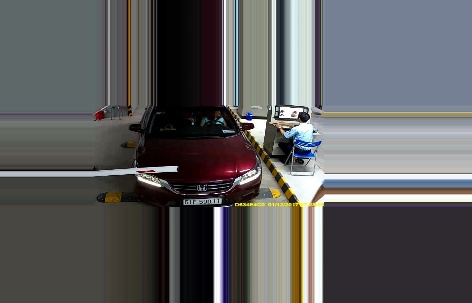plate: (183, 197, 223, 206)
